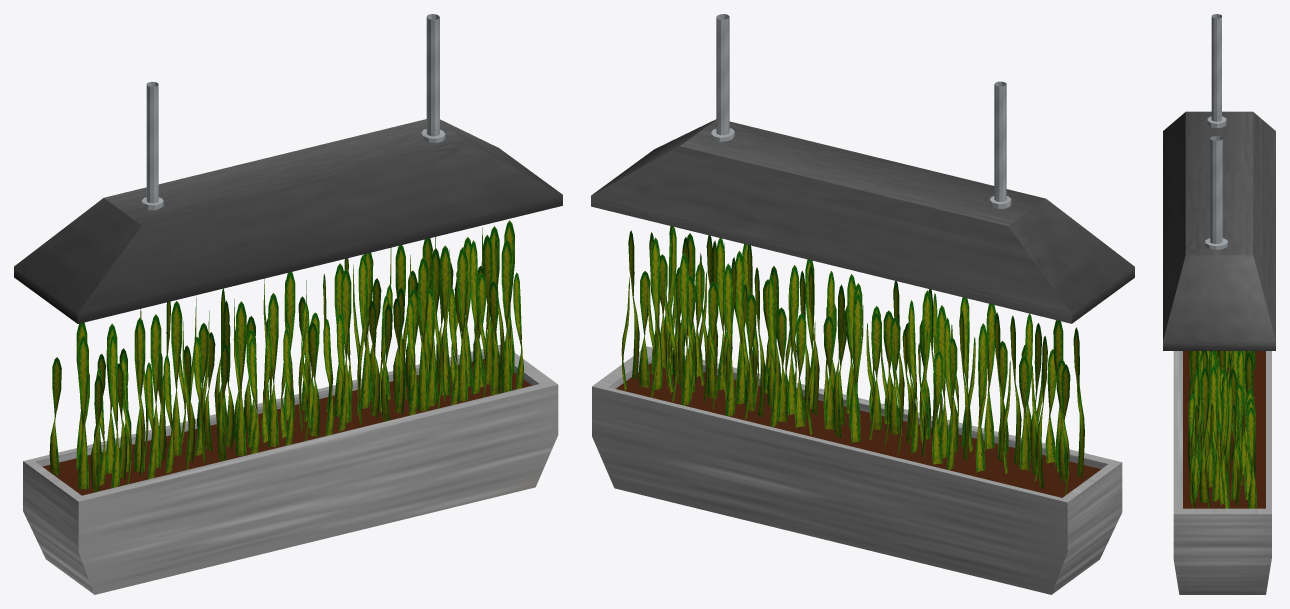
File: planter.fbx
3 views of the same model, side by side, from view 1: azimuth 30°, elevation 25°; view 2: azimuth 150°, elevation 25°; view 3: azimuth 270°, elevation 25° (orthographic). The views are drawn at different scales.
Parts seen in each view (by area): view 1: plant_table:plant_dirtContainer, plant_table:pCube1, plant_table:pCylinder2, plant_table:pCylinder1, plant_table:plant_tall33, plant_table:plant_tall18, plant_table:plant_tall34, plant_table:plant_tall52, plant_table:plant_tall5, plant_table:plant_tall13, plant_table:plant_tall44, plant_table:plant_tall47 (+22 smaller); view 2: plant_table:plant_dirtContainer, plant_table:pCube1, plant_table:pCylinder2, plant_table:pCylinder1, plant_table:plant_tall32, plant_table:plant_tall12, plant_table:plant_tall22, plant_table:plant_tall1, plant_table:plant_tall48, plant_table:plant_tall46, plant_table:plant_tall20, plant_table:plant_tall9 (+23 smaller); view 3: plant_table:pCube1, plant_table:plant_dirtContainer, plant_table:pCylinder2, plant_table:pCylinder1, plant_table:plant_tall6, plant_table:plant_tall7, plant_table:plant_small51, plant_table:plant_tall8, plant_table:plant_tall4, plant_table:plant_tall9, plant_table:plant_tall5, plant_table:plant_tall12 (+19 smaller).
Part boxes in pixels (box(x1,y1,x2,y2)): plant_table:plant_dirtContainer: box(23, 344, 558, 594); plant_table:pCube1: box(14, 119, 562, 323); plant_table:pCylinder2: box(421, 14, 445, 142); plant_table:pCylinder1: box(141, 81, 163, 210); plant_table:plant_tall33: box(235, 301, 246, 455); plant_table:plant_tall18: box(417, 257, 428, 411); plant_table:plant_tall34: box(268, 293, 278, 446); plant_table:plant_tall52: box(78, 335, 88, 489); plant_table:plant_tall5: box(501, 239, 511, 392); plant_table:plant_tall13: box(457, 247, 467, 401); plant_table:plant_tall44: box(171, 301, 181, 455); plant_table:plant_tall47: box(150, 314, 161, 467); plant_table:plant_dirtContainer: box(592, 346, 1122, 594); plant_table:pCube1: box(591, 119, 1134, 323); plant_table:pCylinder2: box(711, 14, 734, 141); plant_table:pCylinder1: box(989, 81, 1011, 208); plant_table:plant_tall32: box(850, 293, 862, 443); plant_table:plant_tall12: box(679, 253, 691, 405); plant_table:plant_tall22: box(724, 263, 735, 416); plant_table:plant_tall1: box(787, 265, 798, 415); plant_table:plant_tall48: box(975, 323, 987, 472); plant_table:plant_tall46: box(984, 303, 995, 449); plant_table:plant_tall20: box(735, 250, 745, 404); plant_table:plant_tall9: box(651, 237, 662, 389); plant_table:pCube1: box(1163, 111, 1275, 350); plant_table:plant_dirtContainer: box(1173, 351, 1271, 594); plant_table:pCylinder2: box(1205, 136, 1227, 249); plant_table:pCylinder1: box(1207, 14, 1226, 128); plant_table:plant_tall6: box(1199, 366, 1209, 502); plant_table:plant_tall7: box(1210, 365, 1219, 501); plant_table:plant_small51: box(1246, 407, 1256, 508); plant_table:plant_tall8: box(1219, 371, 1227, 505); plant_table:plant_tall4: box(1224, 379, 1232, 508); plant_table:plant_tall9: box(1229, 368, 1237, 500); plant_table:plant_tall5: box(1190, 369, 1198, 503); plant_table:plant_tall12: box(1245, 351, 1255, 479).
Size of the model in its own units: 7.65 by 7.15 by 1.73.
